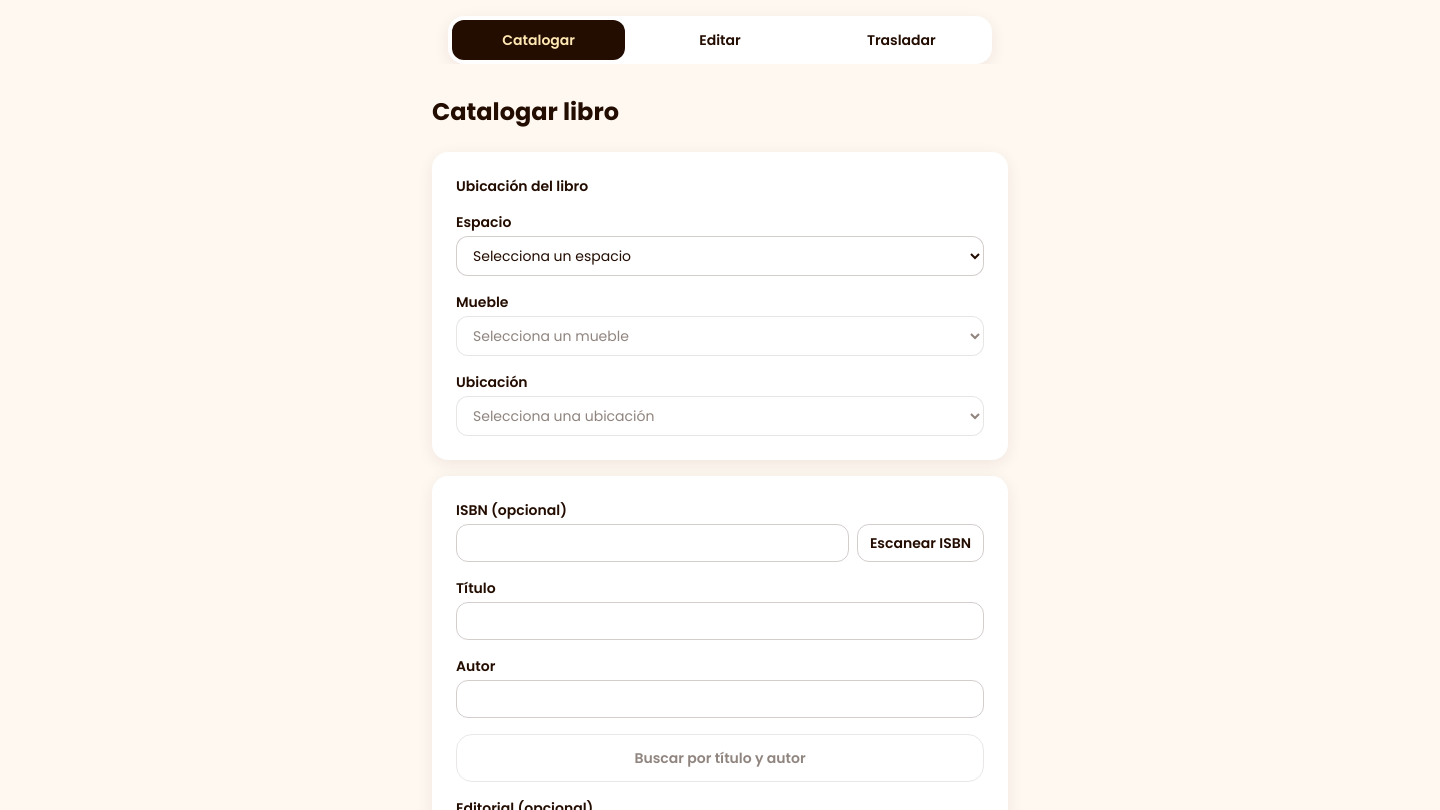
Test case: GestionarComponent › cambia a la pestaña "Trasladar" al hacer click
Step 1. Click the button "Trasladar" → (901, 40), box [815, 20, 988, 60]
(page scrolled)
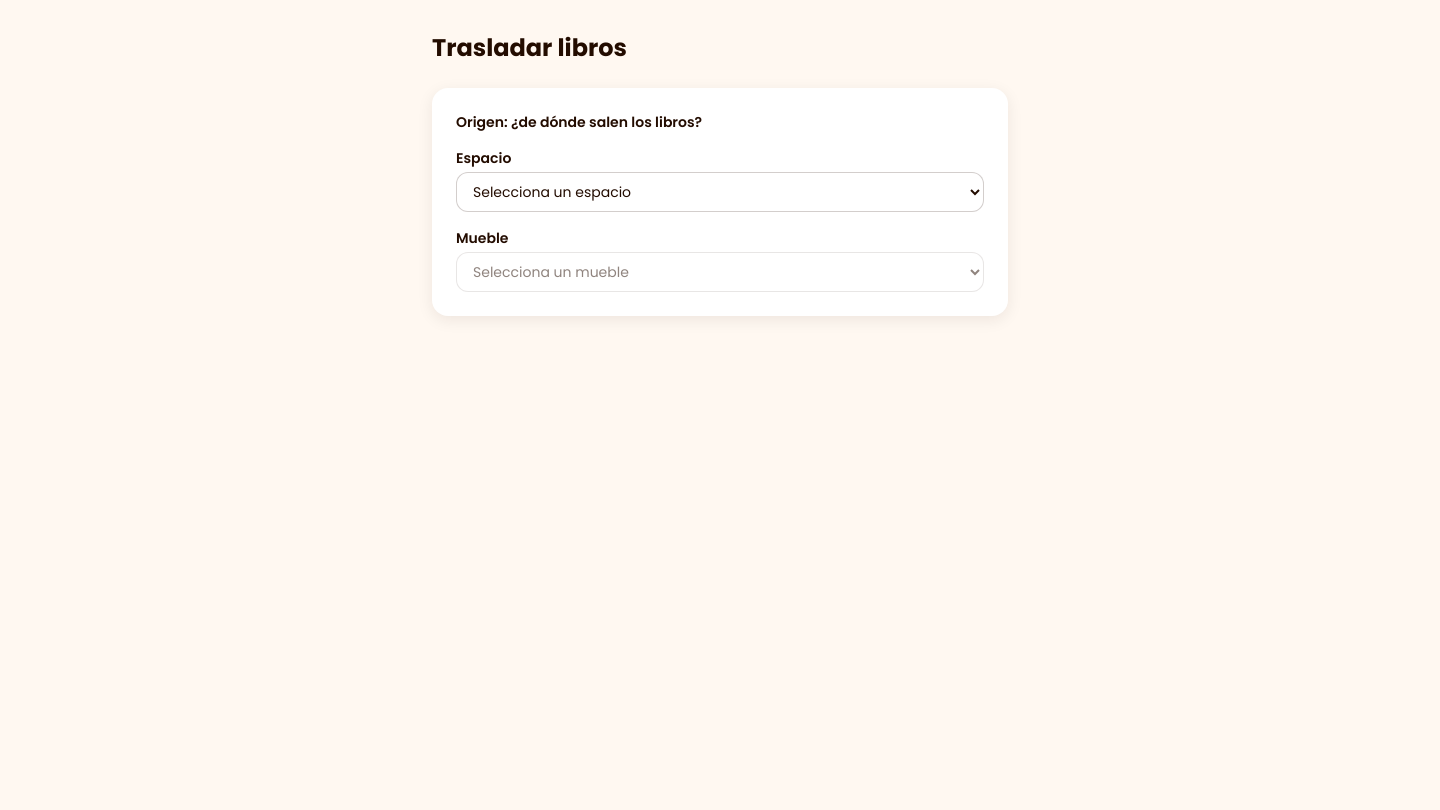
Expected: the element that starts with "Trasladar libros" is shown
